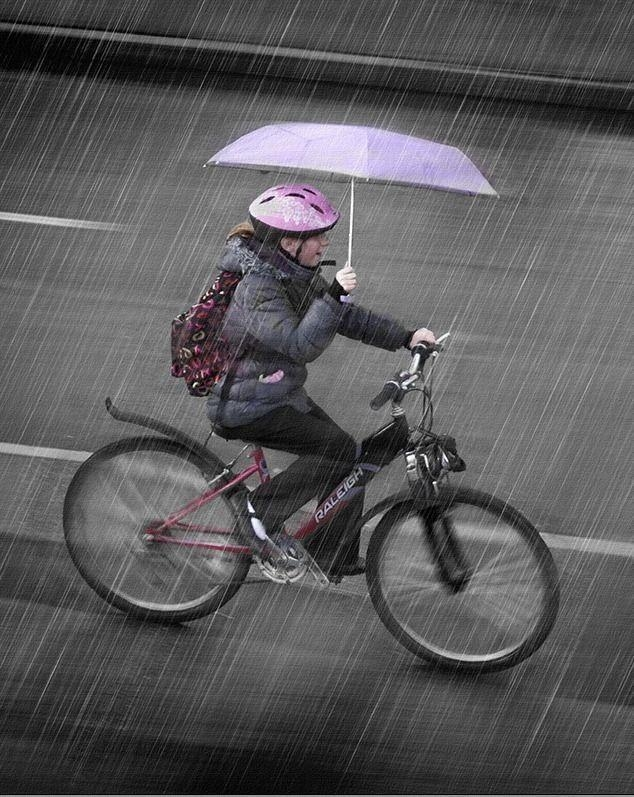bicycle: (64, 361, 554, 668)
